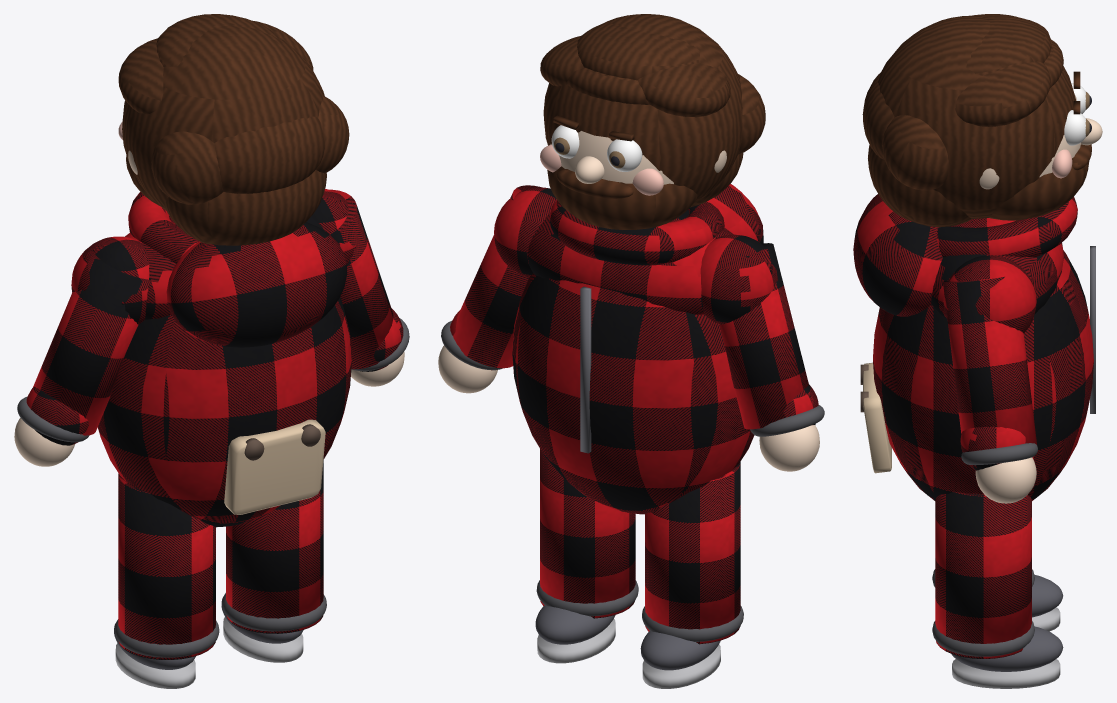
The model's file is plaid_hero.glb.
The picture shows the model from 3 angles, left to right: view 1: azimuth 30°, elevation 25°; view 2: azimuth 150°, elevation 25°; view 3: azimuth 270°, elevation 25°; orthographic projection. The views are drawn at different scales.
Parts seen in each view (by area): view 1: HeroTorso, HeroHead, HeroLeftLeg, HeroLeftArm, HeroRightLeg, HeroRightArm; view 2: HeroTorso, HeroHead, HeroLeftLeg, HeroLeftArm, HeroRightLeg, HeroRightArm; view 3: HeroTorso, HeroHead, HeroRightLeg, HeroRightArm, HeroLeftLeg.
Boxes of the visible parts, <box> form: HeroTorso: <box>97,192,351,527</box>; HeroHead: <box>118,14,349,245</box>; HeroLeftLeg: <box>114,473,219,688</box>; HeroLeftArm: <box>14,236,151,466</box>; HeroRightLeg: <box>221,460,326,662</box>; HeroRightArm: <box>312,189,409,386</box>; HeroTorso: <box>512,183,763,514</box>; HeroHead: <box>540,14,765,229</box>; HeroLeftLeg: <box>640,462,743,688</box>; HeroLeftArm: <box>700,234,824,471</box>; HeroRightLeg: <box>535,449,638,663</box>; HeroRightArm: <box>438,185,556,393</box>; HeroTorso: <box>853,194,1095,500</box>; HeroHead: <box>862,14,1102,227</box>; HeroRightLeg: <box>932,491,1063,688</box>; HeroRightArm: <box>943,255,1037,503</box>; HeroLeftLeg: <box>932,569,1063,631</box>.
Bounding box in the file's own units: 1.35 × 2.14 × 0.7747.
Materials: 15 (2 with a texture image).
